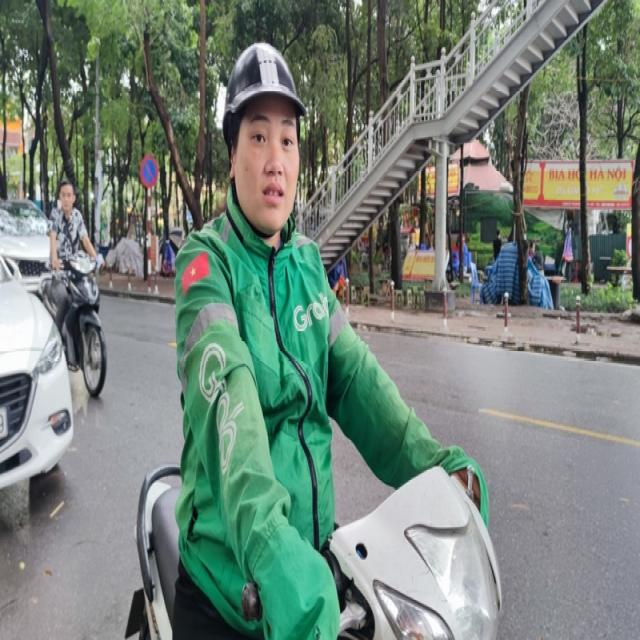no_helmet: (222, 40, 307, 142)
